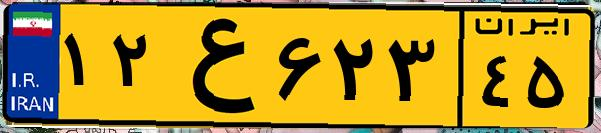1: (57, 26, 110, 100)
2: (330, 28, 385, 110), (110, 28, 158, 98)
3: (385, 28, 445, 110)
4: (475, 38, 525, 113)
5: (525, 38, 570, 115)
6: (270, 28, 330, 110)
ع: (158, 12, 270, 120)
